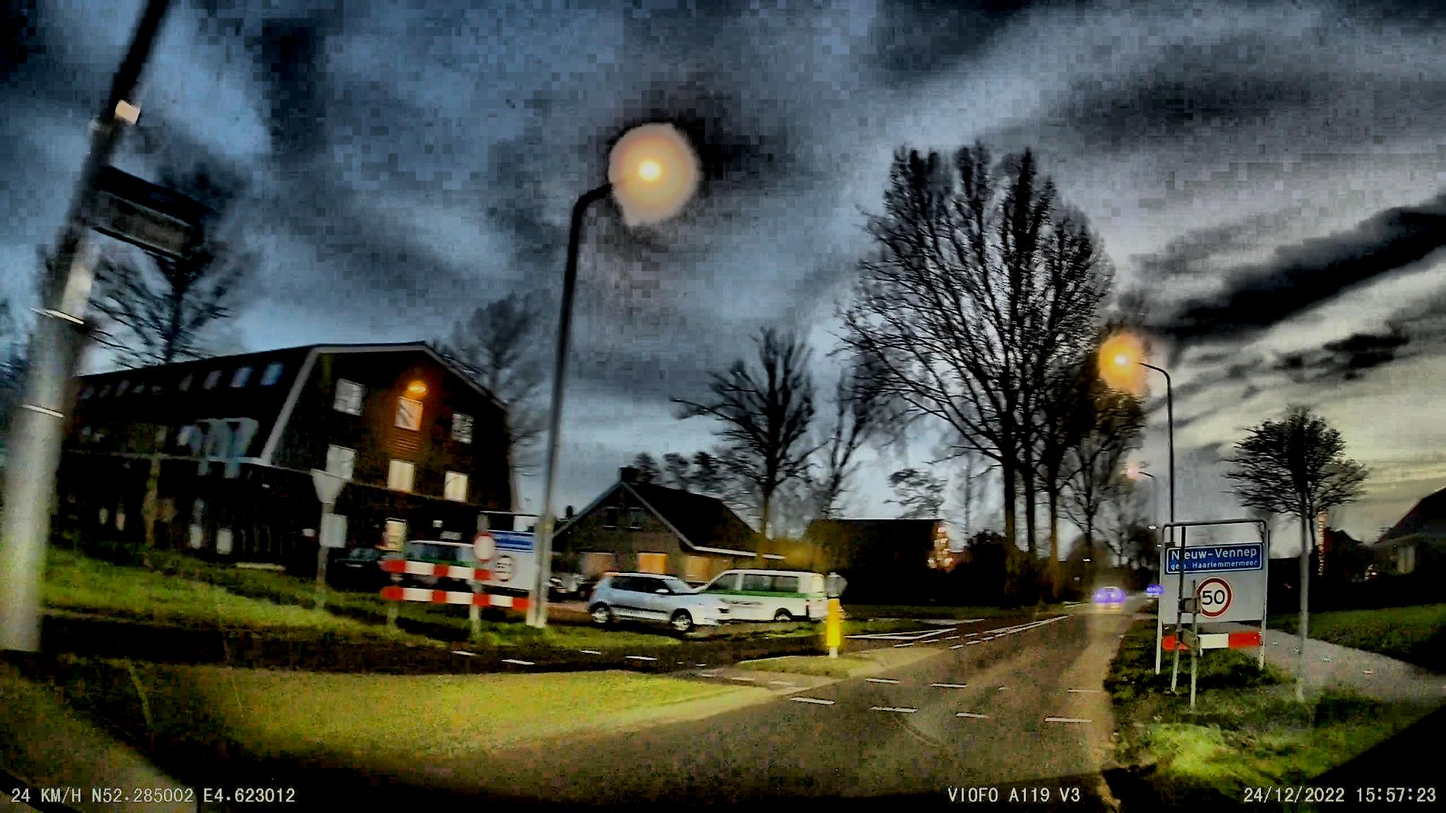Roads: (394, 604, 1146, 813)
